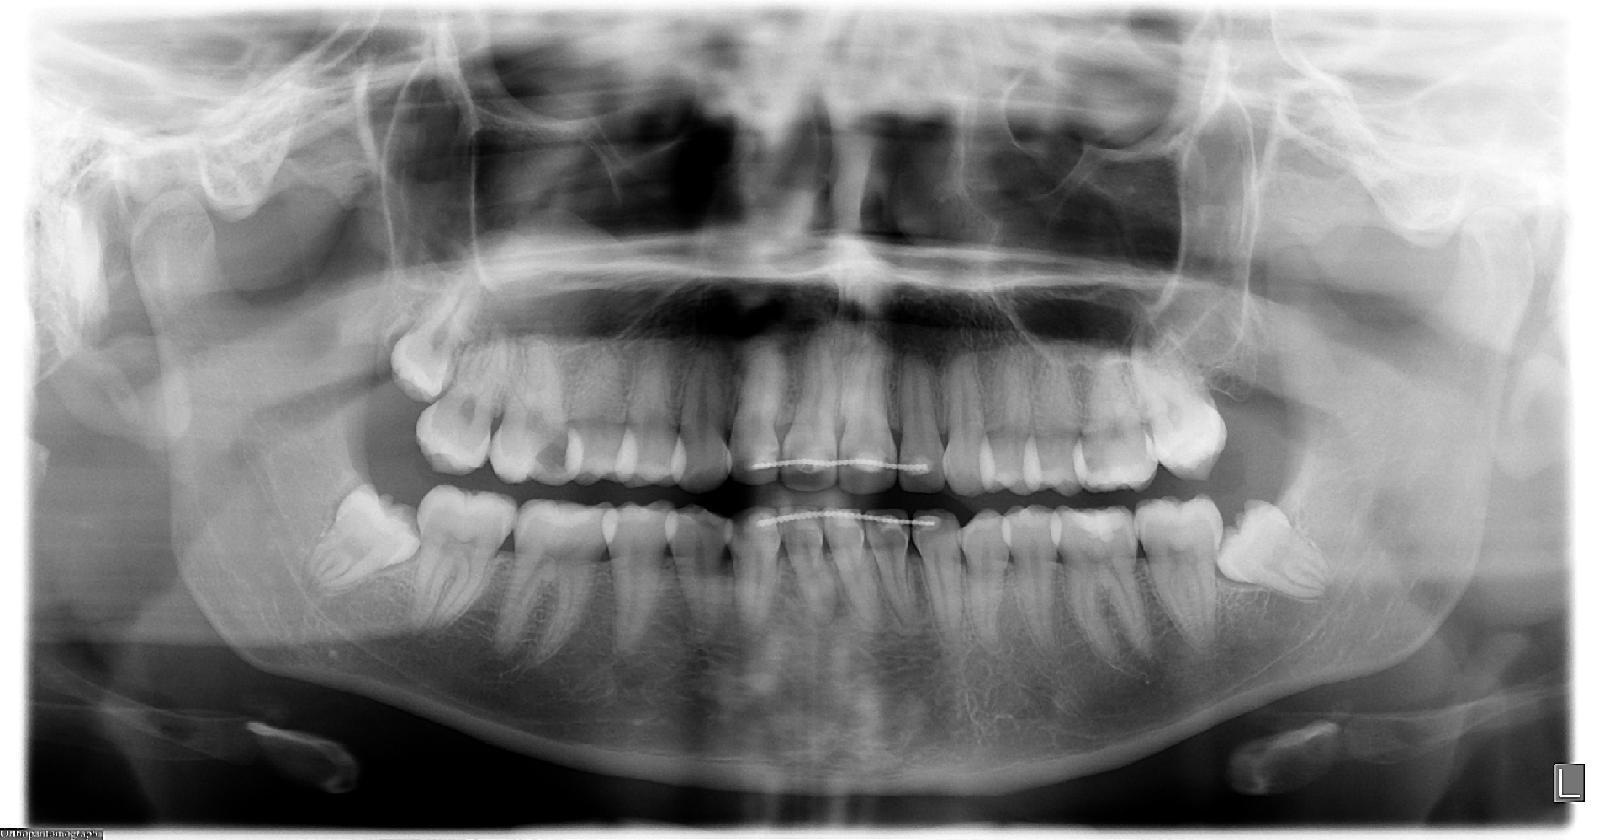Mesio-angular: (293, 472, 423, 616), (1217, 492, 1348, 615)
